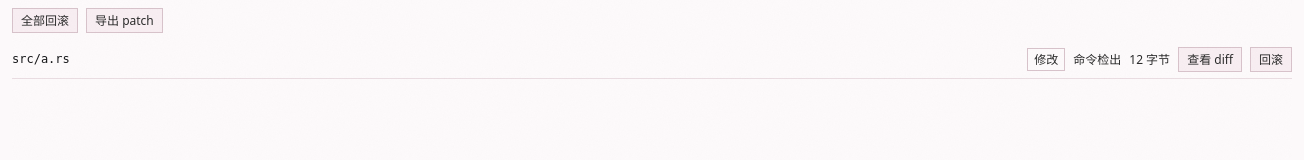
Test: FileChangesPanel 交互(批次 4c) › 回滚失败(ok:false)→ 显示原因原文,且不触发重拉
Click the button "回滚".
click(1271, 60)  # box [1250,47,1292,72]
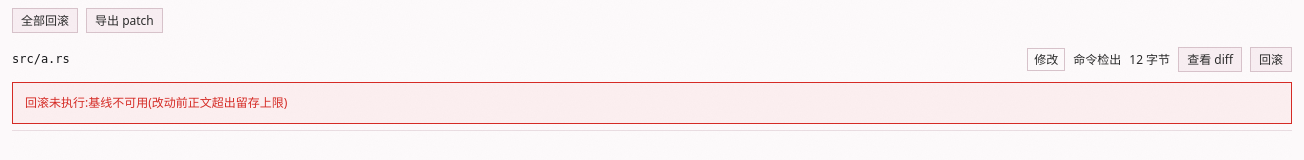
expect the text "基线不可用(改动前正文超出留存上限)" is shown: met, box [25,94,287,111]
expect the text "回滚未执行" is shown: met, box [25,94,287,111]
